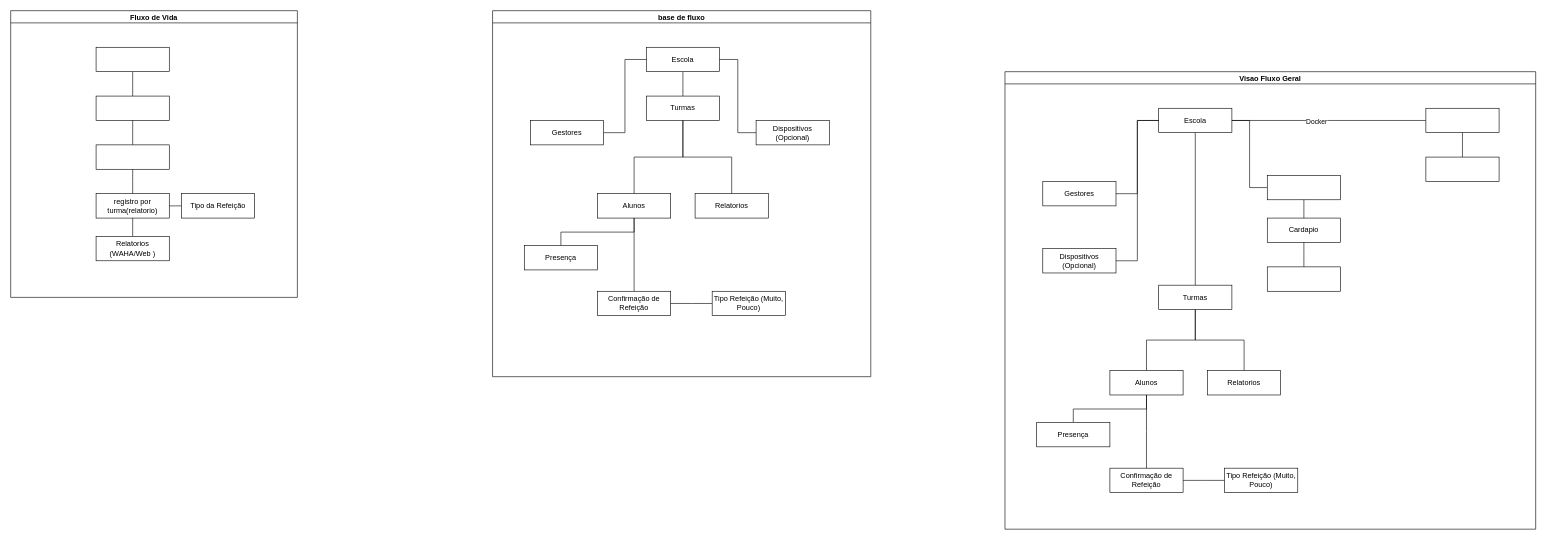
The diagram is 1546 pixels wide and 540 high, and some of its shapes have lost their labels. The centre of each missing label's shape, as x and y in pixels:
"App(identificacao)" goes at point 132,107.
"Cantina" goes at point 1303,187.
"QRCode(captura)" goes at point 132,59.
"Relatorio (Cantina)" goes at point 1462,168.
"Relatorio (Sobras)" goes at point 1303,278.
"validacao" goes at point 132,156.
"WAHA" goes at point 1462,120.
